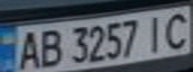2: (87, 21, 109, 62)
3: (66, 24, 90, 64)
5: (103, 20, 127, 61)
7: (118, 17, 145, 57)
A: (12, 28, 45, 71)
B: (36, 26, 66, 70)
C: (160, 8, 193, 51)
I: (139, 11, 169, 53)
